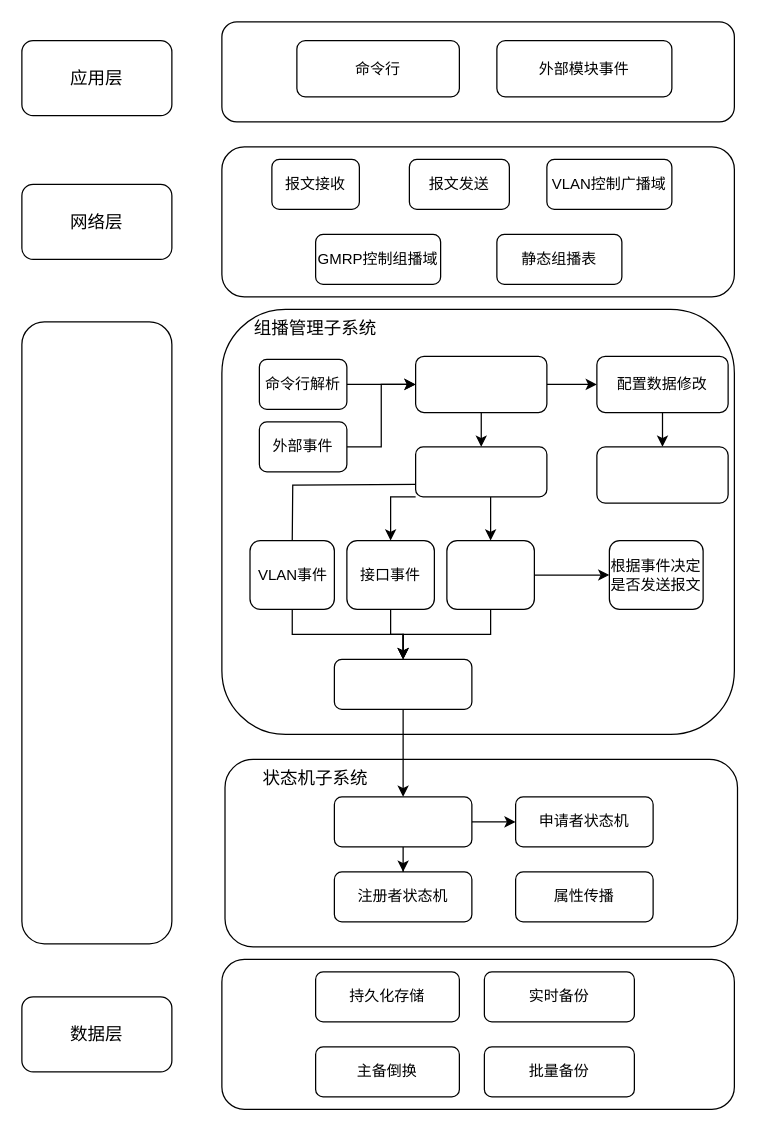
This 760x1131 diagram has some shape labels left out. The centre of each missing label's shape, as x and y in pixels:
"业务层" belongs at (96,632).
"启动对应事件" belongs at (662,474).
"外部事件响应" belongs at (480,471).
"定时器事件" belongs at (490,574).
"注册解析" belongs at (402,821).
"状态机变化" belongs at (402,683).
"调用对应模块处理" belongs at (480,383).
